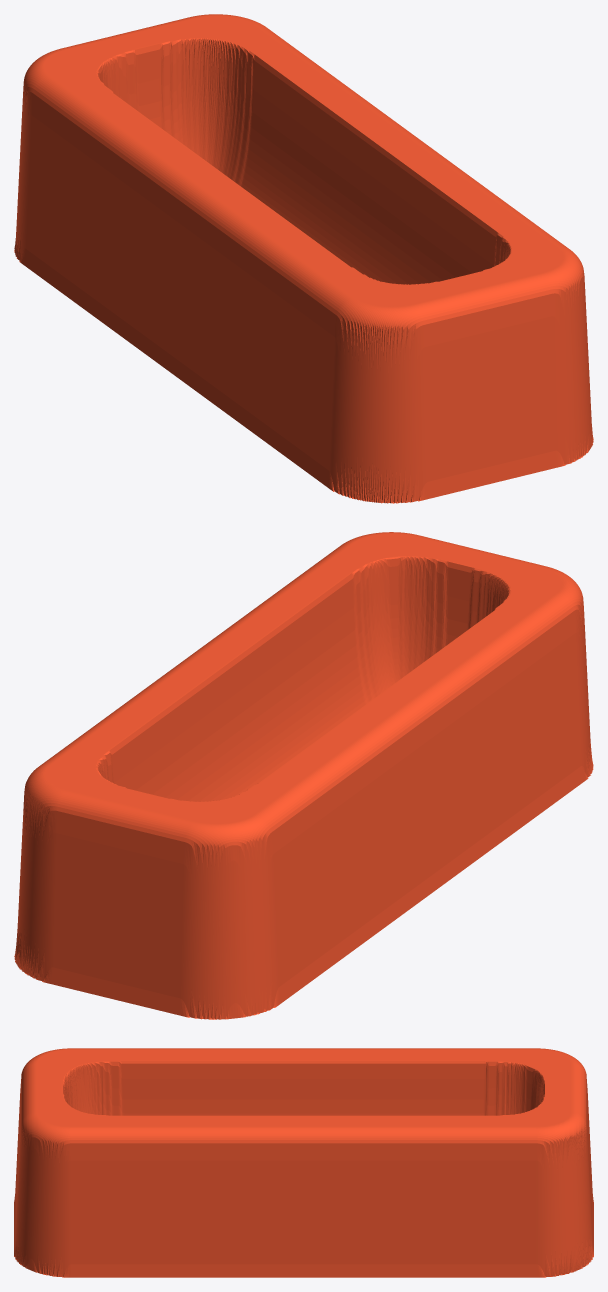
The model's file is mold.glb.
3 renders of one model, top to bottom at view 1: azimuth 30°, elevation 25°; view 2: azimuth 150°, elevation 25°; view 3: azimuth 270°, elevation 25°, orthographic. The views are drawn at different scales.
Parts seen in each view (by area): view 1: geometry_0; view 2: geometry_0; view 3: geometry_0.
Part boxes in pixels (x1,y1,x2,y2): geometry_0: (14, 14, 593, 503); geometry_0: (14, 532, 593, 1019); geometry_0: (14, 1048, 593, 1277).
Bounding box in the file's own units: 0.0362 × 0.0248 × 0.0924.
